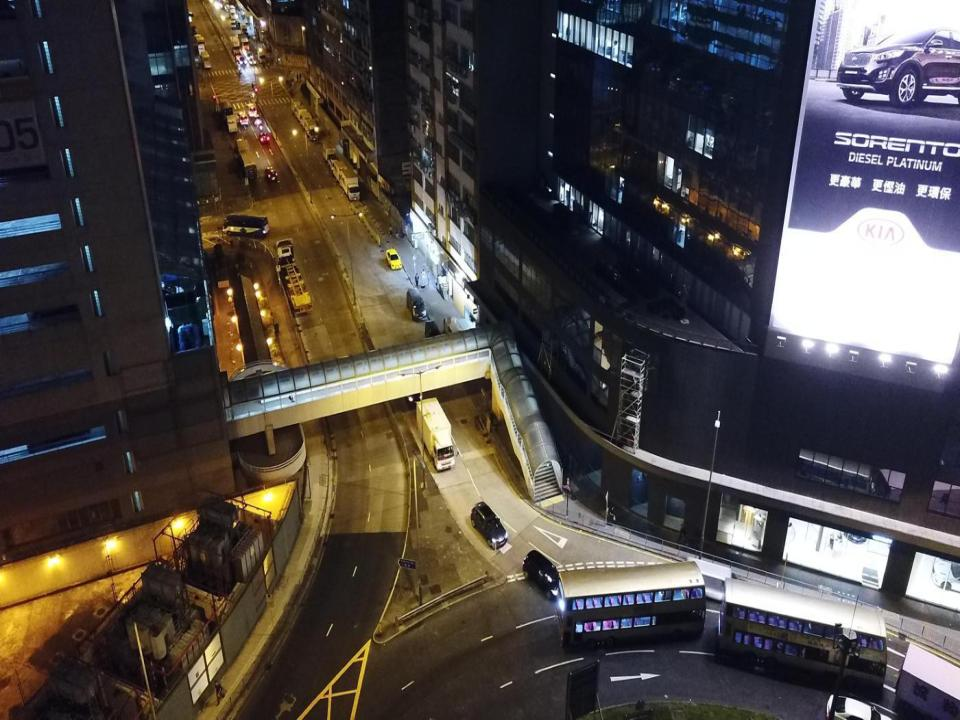bus: (718, 577, 888, 690), (556, 560, 705, 648), (275, 238, 313, 317), (222, 214, 270, 236)
car: (826, 694, 894, 719), (470, 502, 507, 547), (523, 550, 560, 594), (931, 557, 960, 592), (402, 370, 423, 408), (386, 248, 402, 268), (265, 166, 277, 183), (258, 132, 269, 144), (253, 114, 262, 125), (244, 50, 253, 58), (239, 56, 246, 66), (235, 21, 241, 29), (250, 58, 255, 66)
truck: (895, 643, 960, 718), (416, 396, 454, 470), (340, 169, 360, 201), (241, 151, 257, 180), (322, 140, 337, 164), (237, 139, 251, 161), (331, 162, 347, 181), (304, 119, 318, 140), (220, 98, 233, 120), (237, 33, 250, 50), (296, 104, 307, 124), (229, 36, 241, 54), (226, 114, 237, 133), (301, 111, 311, 130), (257, 43, 266, 63), (201, 50, 211, 68), (292, 98, 300, 115), (195, 34, 204, 49), (228, 5, 236, 19), (198, 44, 206, 57), (240, 24, 248, 36)
van: (680, 556, 732, 602), (406, 288, 426, 320), (425, 319, 446, 348), (247, 103, 256, 117), (238, 112, 248, 124), (224, 2, 230, 12), (230, 20, 236, 30)
